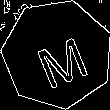M_N: (26, 22, 88, 86)
